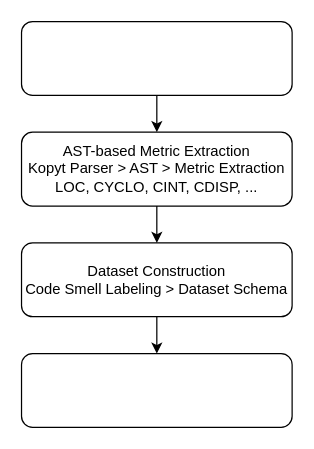
Image size: 314x449. Some labels were removed from this diagram. The centre of each missing label's shape, as x and y in pixels:
"Dataset Evaluation Validation > Statistics > Benchmark" belongs at (x=156, y=389).
"Repository Acquisition Github > Repository Selection > Clone" belongs at (x=156, y=57).
